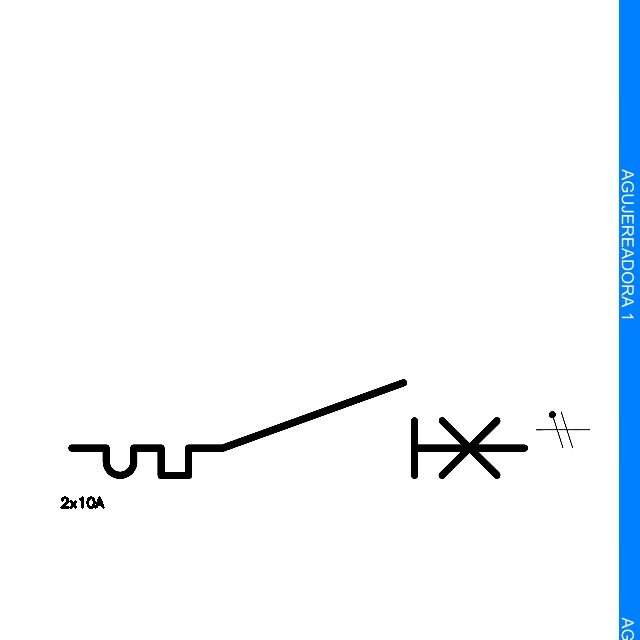interruptor_termomagnetico: (60, 371, 536, 487)
